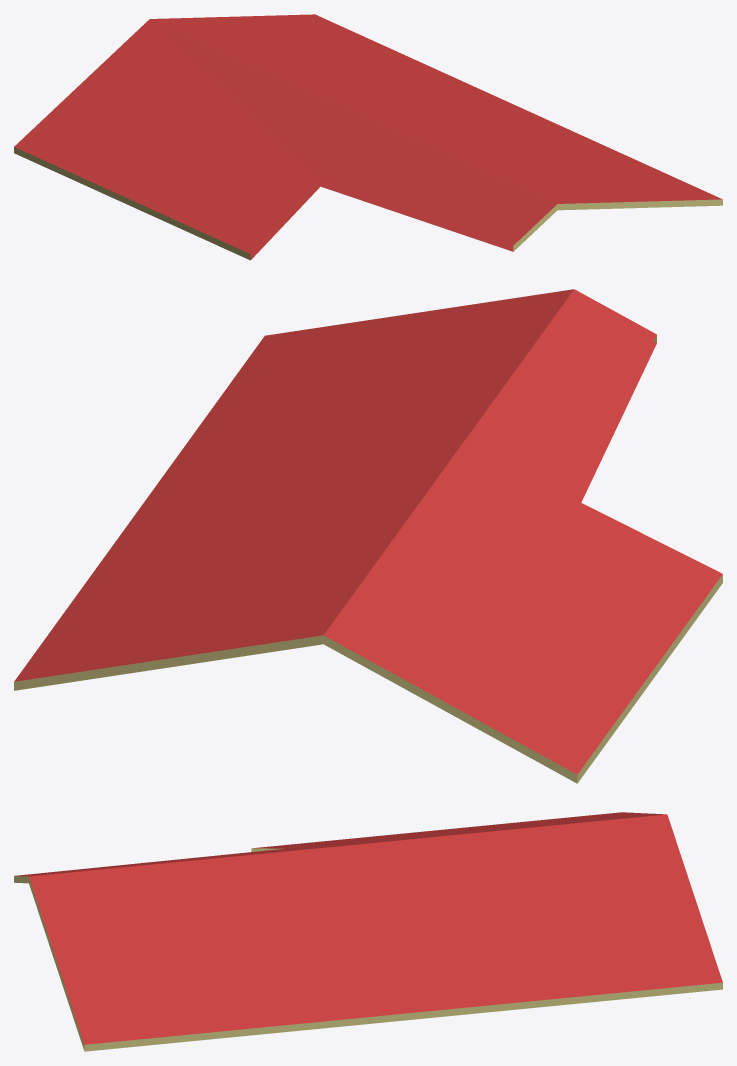
3 views of the same model, one above another, from view 1: azimuth 30°, elevation 25°; view 2: azimuth 150°, elevation 25°; view 3: azimuth 270°, elevation 25° (orthographic). The views are drawn at different scales.
Size of the model in its own units: 7.69 by 9.3 by 1.28.
